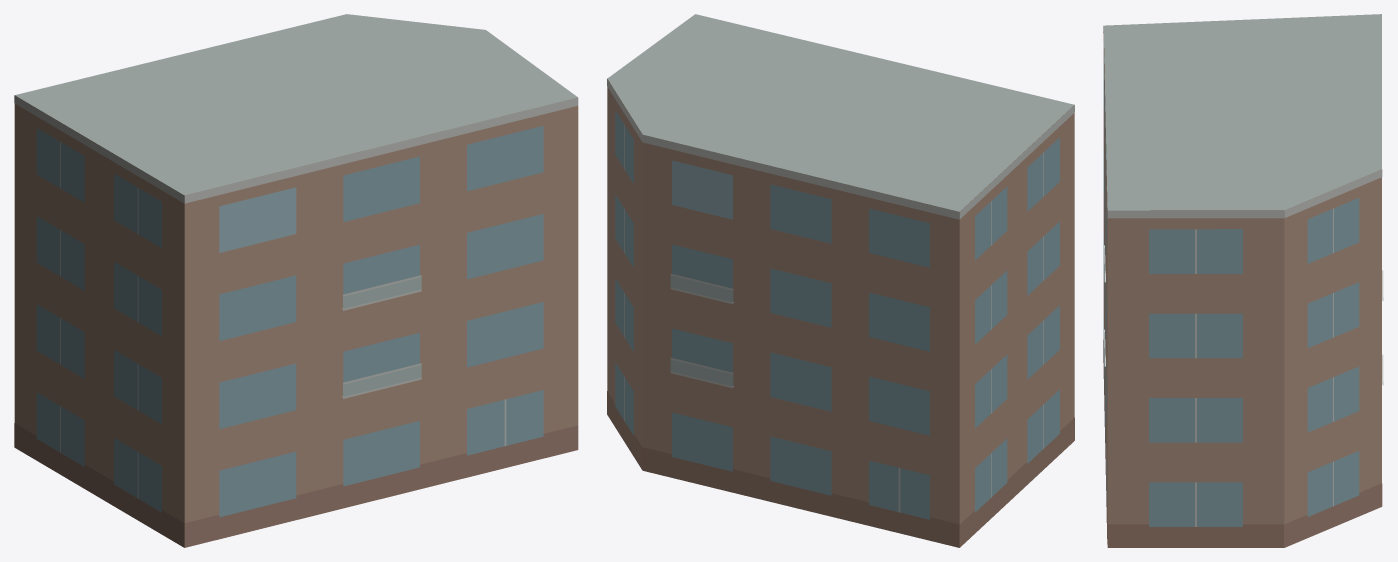
Rendered from survey-upis-33037018.glb.
The picture shows the model from 3 angles, left to right: view 1: azimuth 30°, elevation 25°; view 2: azimuth 150°, elevation 25°; view 3: azimuth 270°, elevation 25°; orthographic projection. The views are drawn at different scales.
Parts seen in each view (by area): view 1: survey-upis-33037018.tmp; view 2: survey-upis-33037018.tmp; view 3: survey-upis-33037018.tmp.
Boxes of the visible parts, bbox=[...] form: survey-upis-33037018.tmp: bbox=[14, 14, 578, 547]; survey-upis-33037018.tmp: bbox=[607, 14, 1074, 547]; survey-upis-33037018.tmp: bbox=[1103, 14, 1383, 547].
Size of the model in its own units: 13.12 by 10.5 by 7.9.
